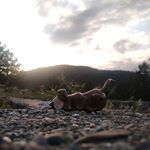puppy: (47, 76, 119, 116)
